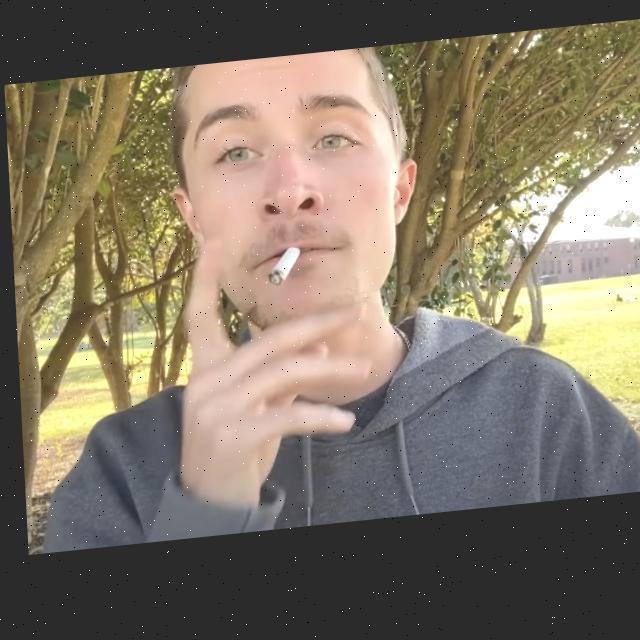cigarette: (262, 253, 298, 294)
